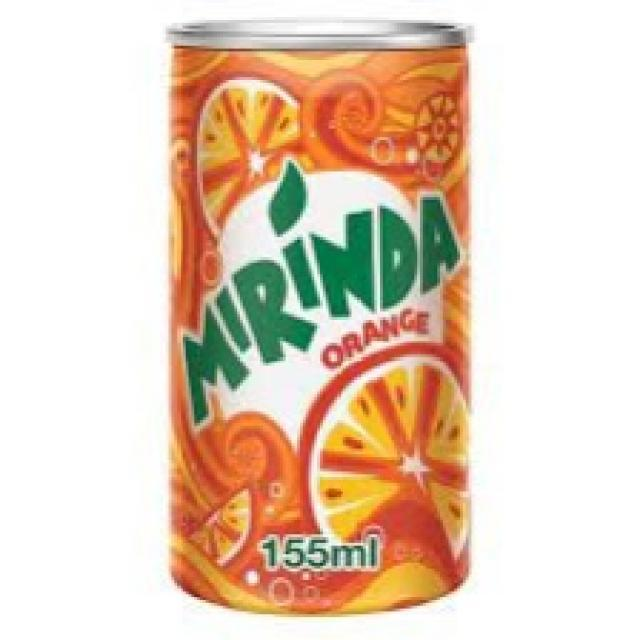metel: (153, 16, 482, 618)
